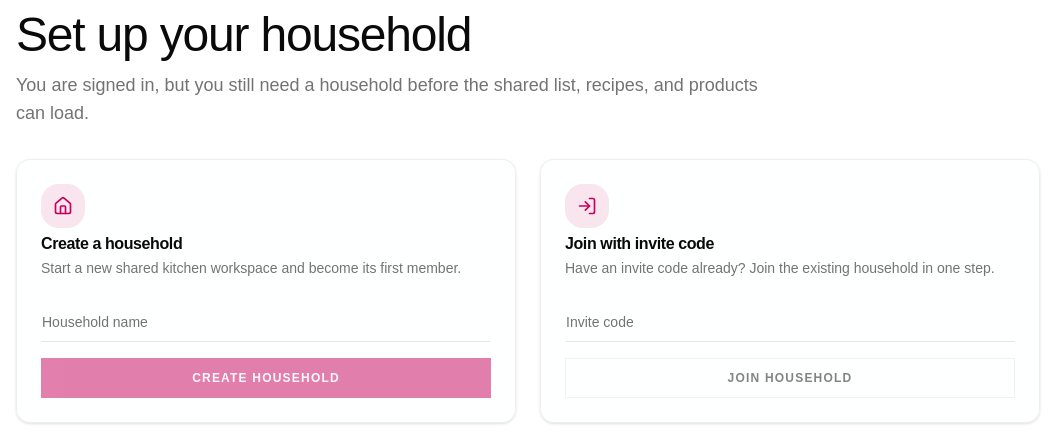
Test: HouseholdSetupPage › shows a loading state while creating a household
Type "Home Kitchen" into the field with placeholder "Household name" at (266, 322), box [41, 302, 491, 342]
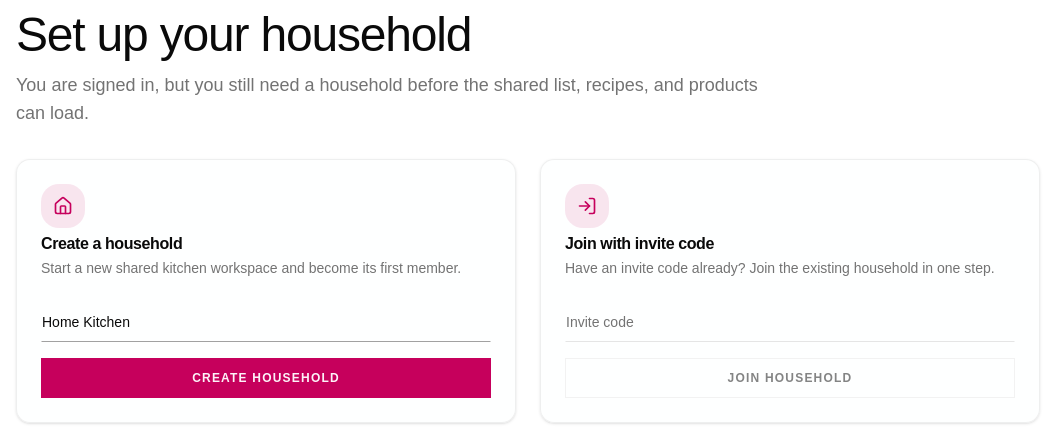
Click the button "Create household" at (266, 378), box [41, 358, 491, 398]
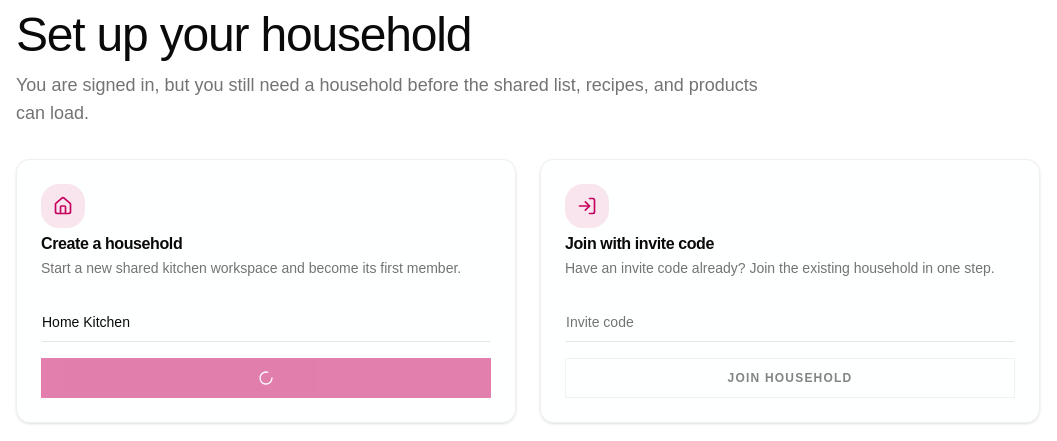
expect the button named "Create household" is disabled: met, box [41, 358, 491, 398]
